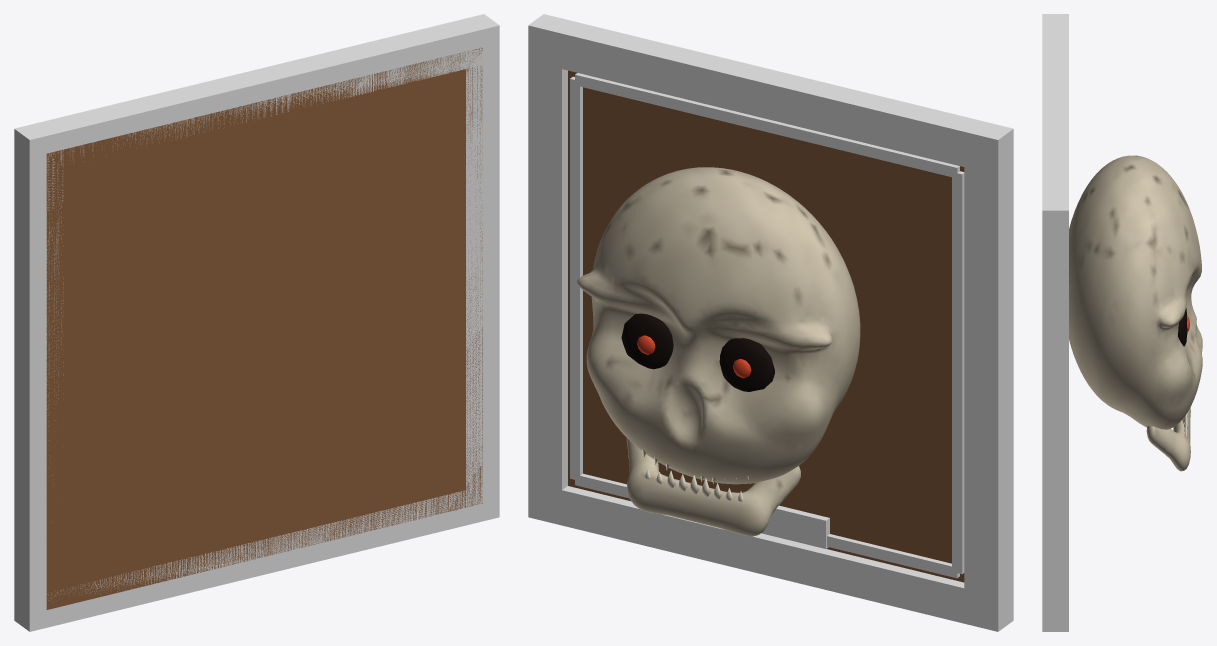
File: skeletron_trophy_v0.glb
The picture shows the model from 3 angles, left to right: view 1: azimuth 30°, elevation 25°; view 2: azimuth 150°, elevation 25°; view 3: azimuth 270°, elevation 25°; orthographic projection. The views are drawn at different scales.
Parts seen in each view (by area): view 1: skeletron_trophy_v0; view 2: skeletron_trophy_v0; view 3: skeletron_trophy_v0.
Part boxes in pixels (x1,y1,x2,y2): skeletron_trophy_v0: (14, 14, 499, 631); skeletron_trophy_v0: (528, 14, 1013, 631); skeletron_trophy_v0: (1042, 14, 1202, 631).
Bounding box in the file's own units: 1.39 × 1.39 × 0.48.
